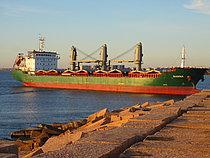Ship: (9, 31, 210, 97)
